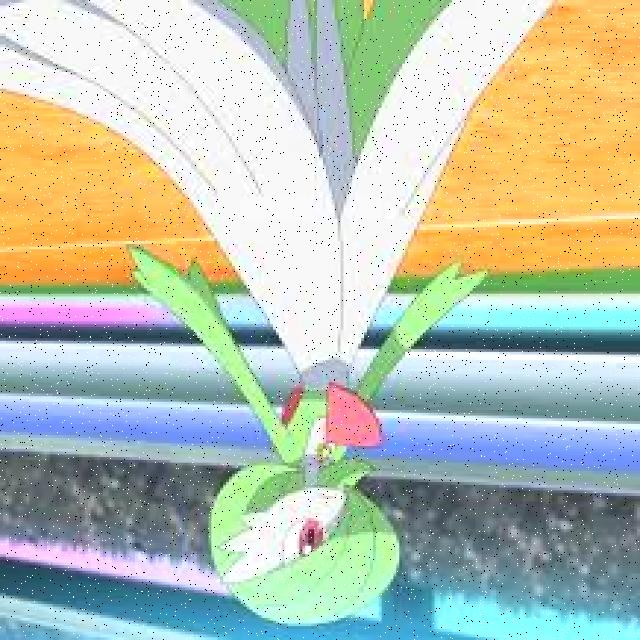gardevoir: (0, 0, 556, 626)
